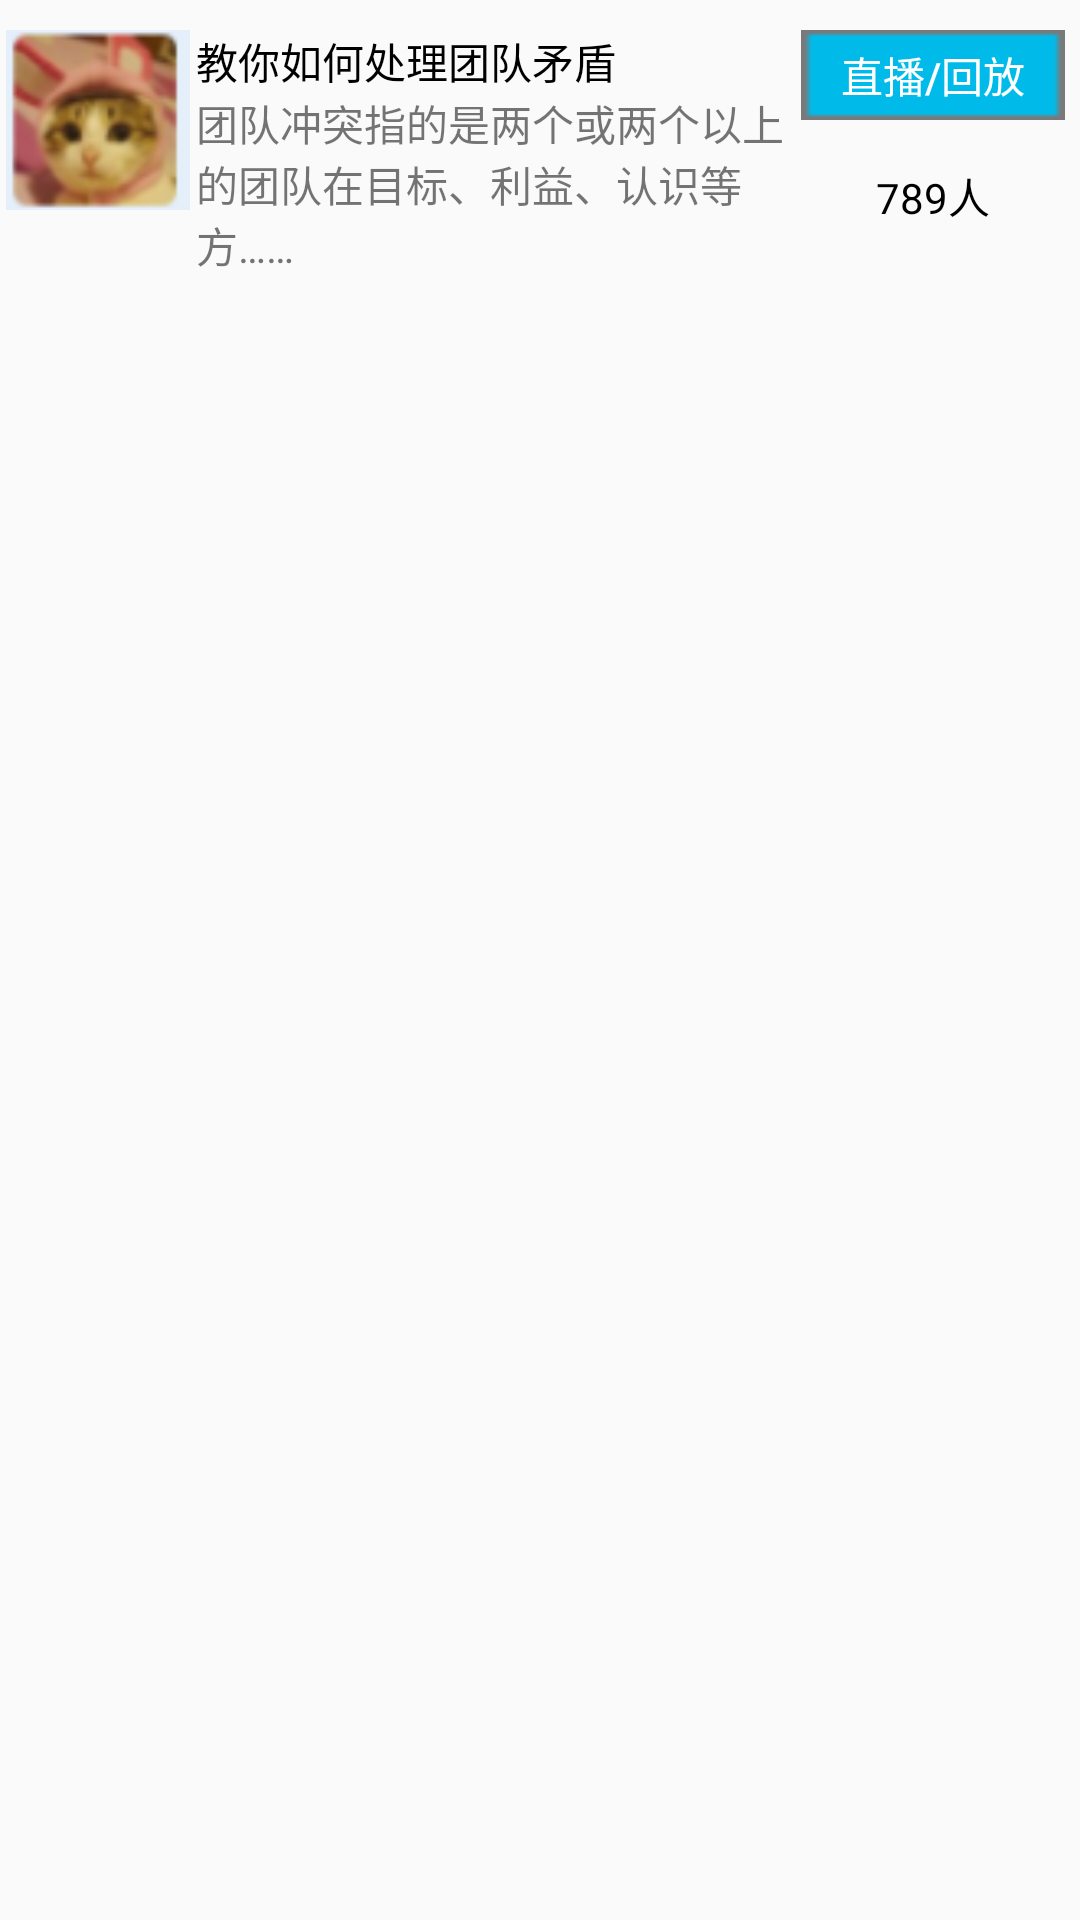

Point at icon controls on the screen. Image size 1080 x 1920, points as (x,y).
photo: (94,120)
